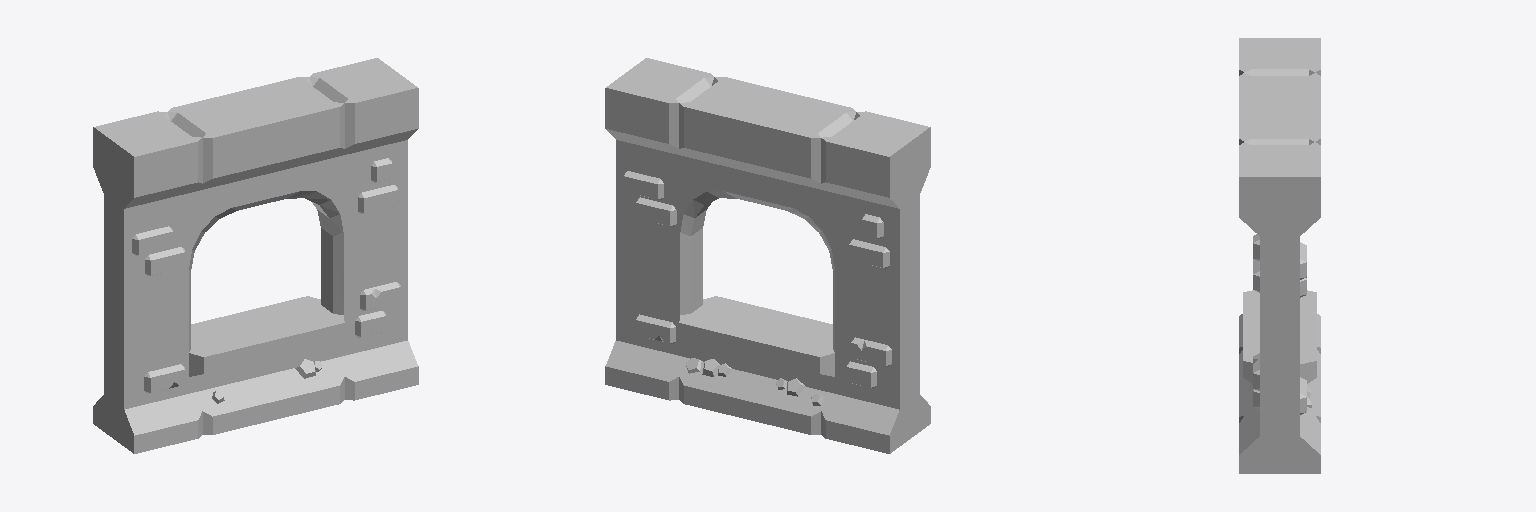
Rendered from wall_archedwindow_open.obj.
3 renders of one model, left to right at view 1: azimuth 30°, elevation 25°; view 2: azimuth 150°, elevation 25°; view 3: azimuth 270°, elevation 25°, orthographic.
Parts seen in each view (by area): view 1: wall_archedwindow_open_Cube.13108; view 2: wall_archedwindow_open_Cube.13108; view 3: wall_archedwindow_open_Cube.13108.
Part boxes in pixels (bbox=[...]): wall_archedwindow_open_Cube.13108: bbox=[93, 58, 418, 453]; wall_archedwindow_open_Cube.13108: bbox=[605, 58, 930, 453]; wall_archedwindow_open_Cube.13108: bbox=[1239, 38, 1320, 473].
Size of the model in its own units: 4 by 4 by 1.